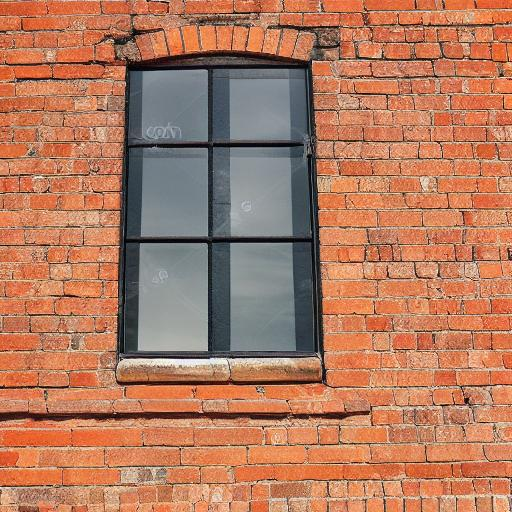Window: (98, 26, 343, 385)
